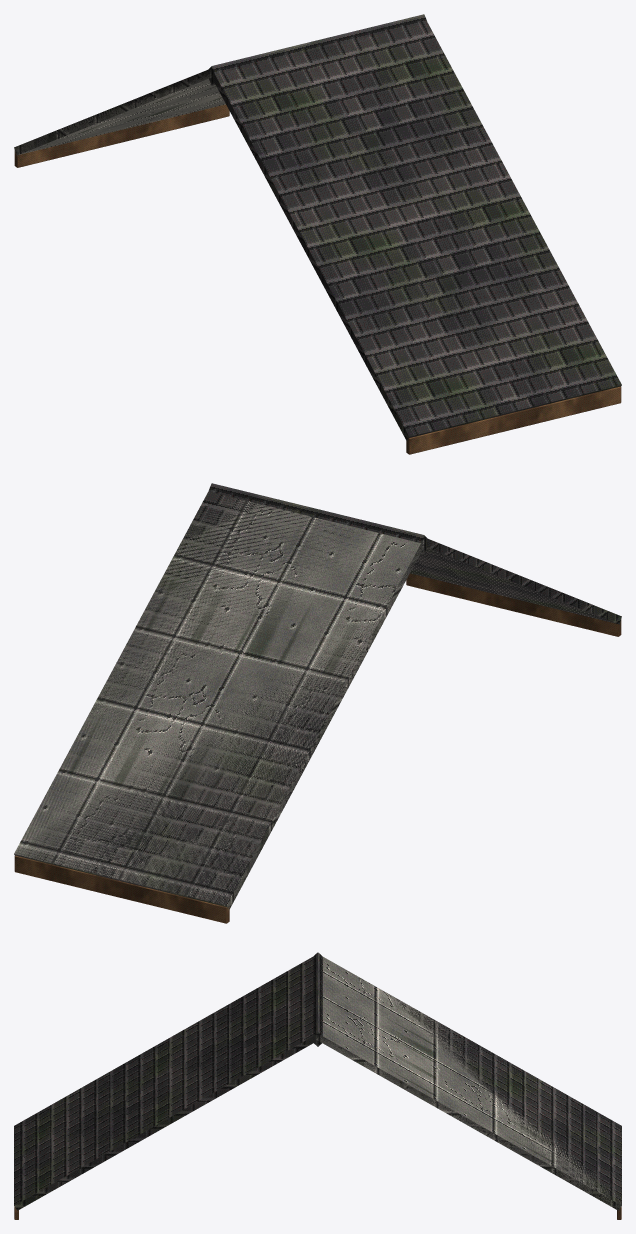
The model's file is roof_gable_12.glb.
3 renders of one model, top to bottom at view 1: azimuth 30°, elevation 25°; view 2: azimuth 150°, elevation 25°; view 3: azimuth 270°, elevation 25°, orthographic. The views are drawn at different scales.
Parts seen in each view (by area): view 1: roof_gable_12_mesh, roof_gable_12_col-colonly.001; view 2: roof_gable_12_col-colonly.001, roof_gable_12_mesh; view 3: roof_gable_12_mesh, roof_gable_12_col-colonly.001.
Part boxes in pixels (x1,y1,x2,y2): roof_gable_12_mesh: [14, 14, 621, 454]; roof_gable_12_col-colonly.001: [14, 72, 225, 155]; roof_gable_12_col-colonly.001: [14, 498, 424, 909]; roof_gable_12_mesh: [14, 483, 621, 923]; roof_gable_12_mesh: [14, 952, 621, 1219]; roof_gable_12_col-colonly.001: [316, 957, 621, 1208].
Size of what is drawn, in the model's own units: 4 by 4.4 by 12.87.
Materials: 3 (3 with a texture image).
